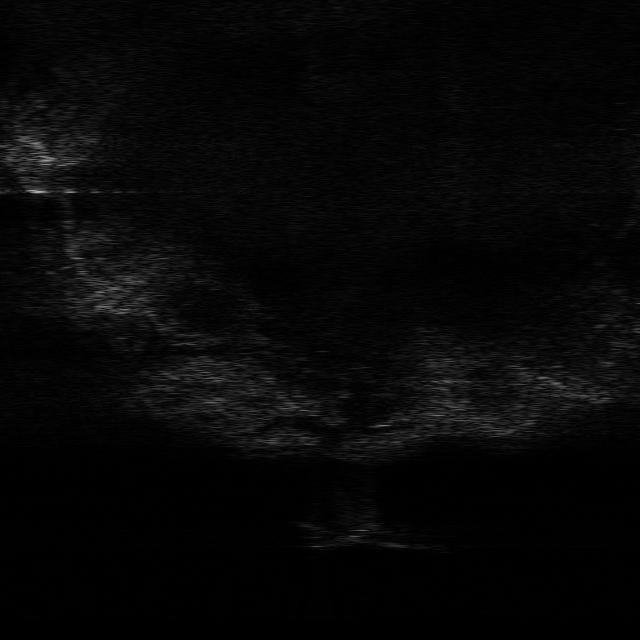plane: (299, 518, 425, 552)
